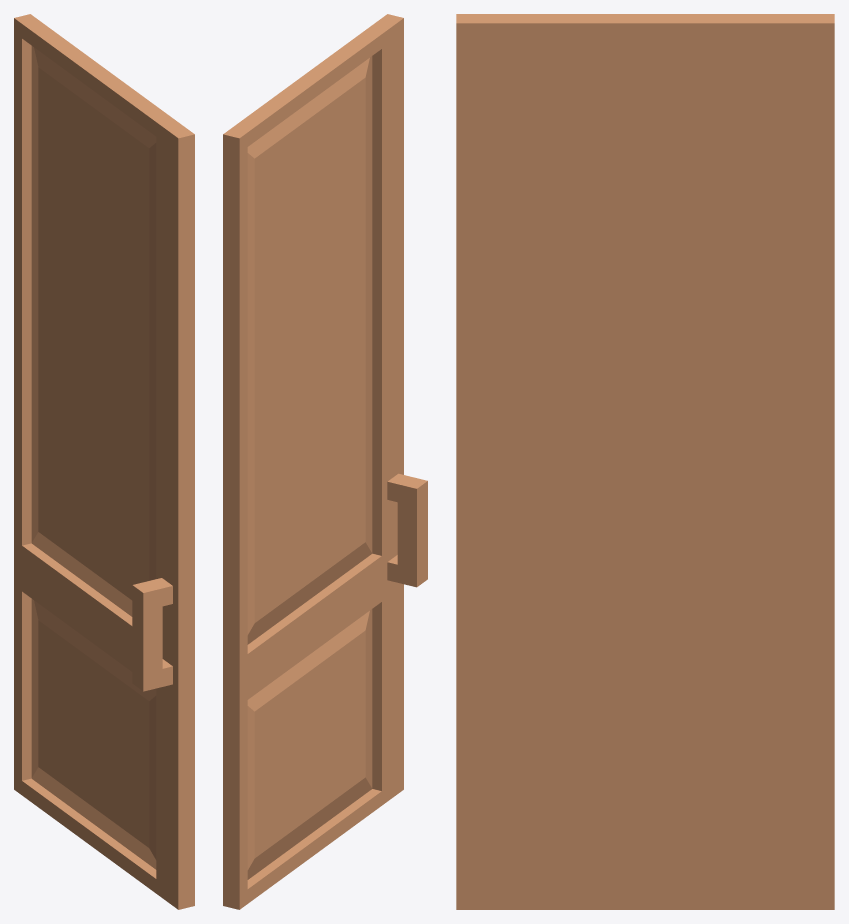
File: mesh_SSOfficeWardrobeDoorL.fbx
The picture shows the model from 3 angles, left to right: view 1: azimuth 30°, elevation 25°; view 2: azimuth 150°, elevation 25°; view 3: azimuth 270°, elevation 25°; orthographic projection. The views are drawn at different scales.
Parts seen in each view (by area): view 1: DoorL; view 2: DoorL; view 3: DoorL.
Boxes of the visible parts, x1,y1,x2,y2 form: DoorL: [14, 14, 194, 909]; DoorL: [223, 14, 427, 909]; DoorL: [456, 14, 834, 909].
Size of the model in its own units: 10.16 by 163 by 62.93.
